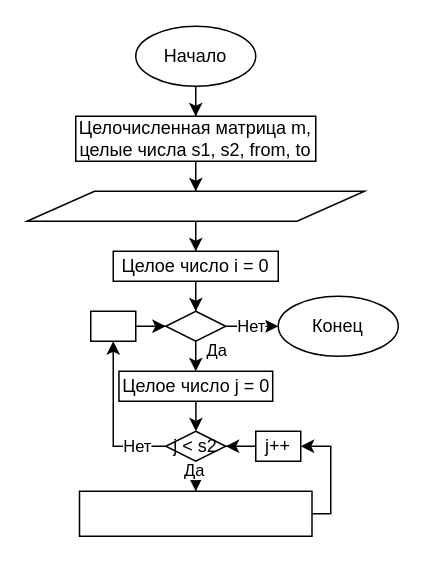
Some shapes in this 425 by 563 pixel diagram are drawn without their labels. The box of each missing label's shape, as (x1, y1, x2, y2) in pixels:
i < s1: (164, 310, 226, 341)
i++: (89, 310, 136, 341)
m[i][j] = ((double)rand() / RAND_MAX)*range + from: (78, 490, 312, 536)
Получение m, s1, s2, from, to: (26, 190, 364, 221)
